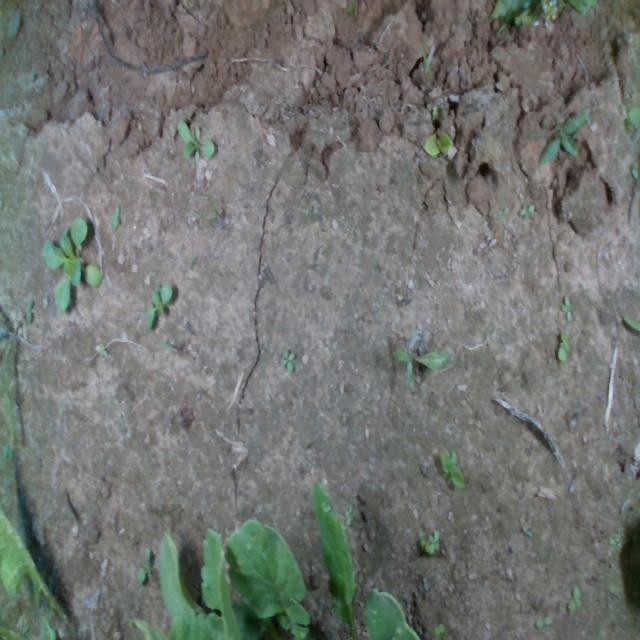weed: (534, 102, 592, 168), (176, 118, 216, 164), (144, 282, 172, 330), (438, 448, 466, 488), (422, 130, 456, 159), (136, 543, 150, 586), (556, 330, 570, 364), (560, 293, 574, 321), (567, 585, 581, 611), (280, 346, 294, 372), (517, 201, 533, 220), (24, 295, 34, 324), (535, 612, 551, 628), (344, 503, 354, 526), (495, 204, 509, 216), (433, 622, 445, 636)
